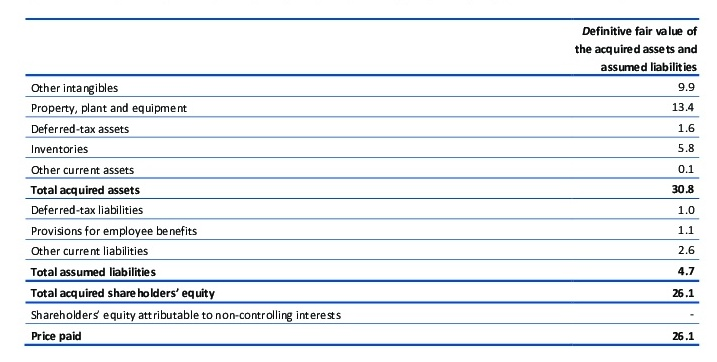table: (0, 0, 717, 362)
